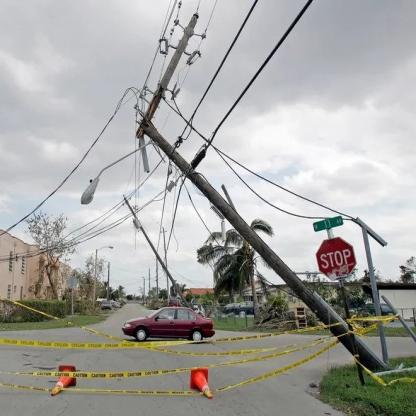Electrical Pole: (121, 101, 397, 394)
